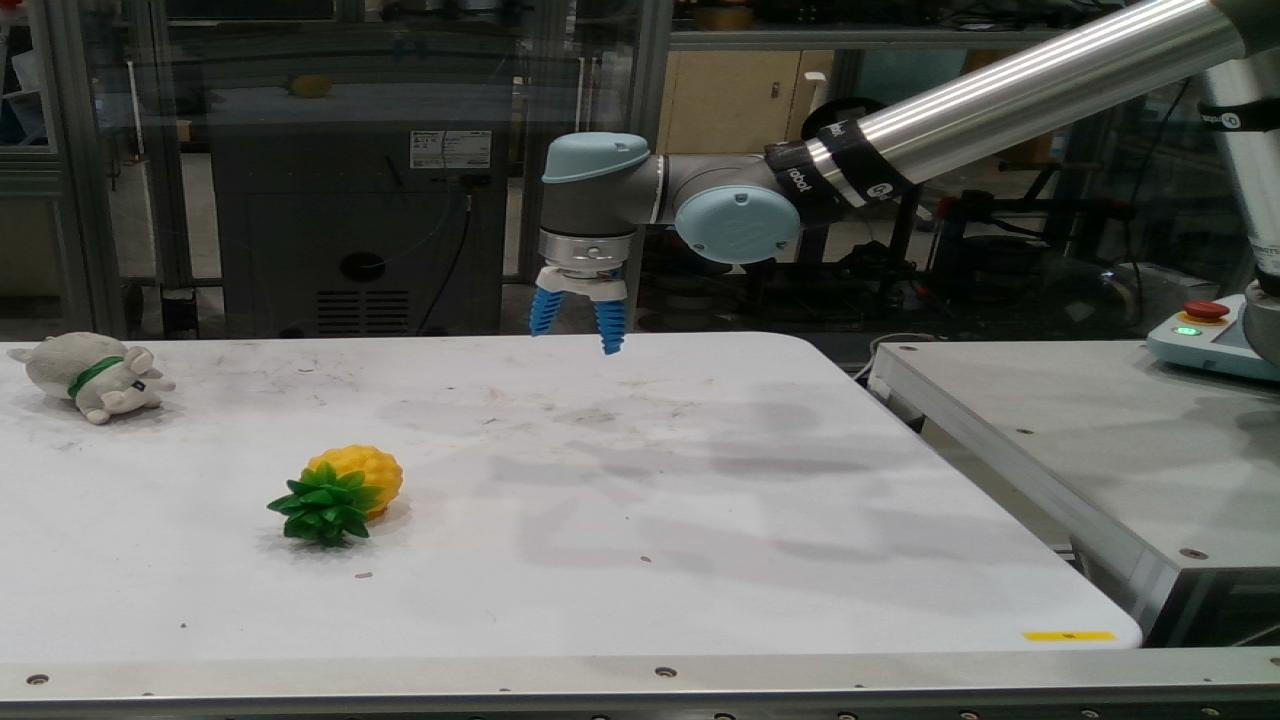UR5: (535, 0, 1279, 371)
gripper_left: (530, 287, 566, 338)
gripper_right: (595, 300, 628, 354)
target: (7, 332, 177, 425), (265, 444, 405, 547)
